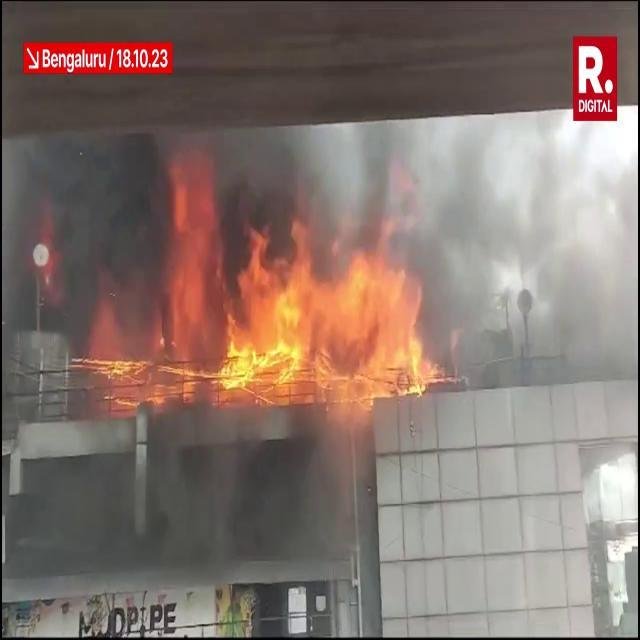Fire: (91, 178, 444, 408)
Smoke: (398, 126, 640, 448)
